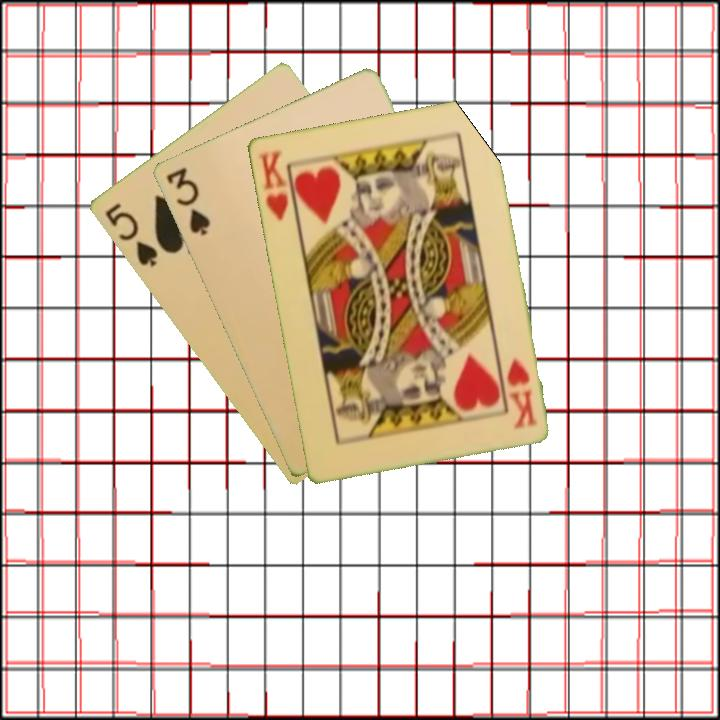3s: (162, 163, 213, 239)
5s: (100, 199, 161, 270)
Kh: (254, 148, 299, 226), (502, 355, 540, 431)
